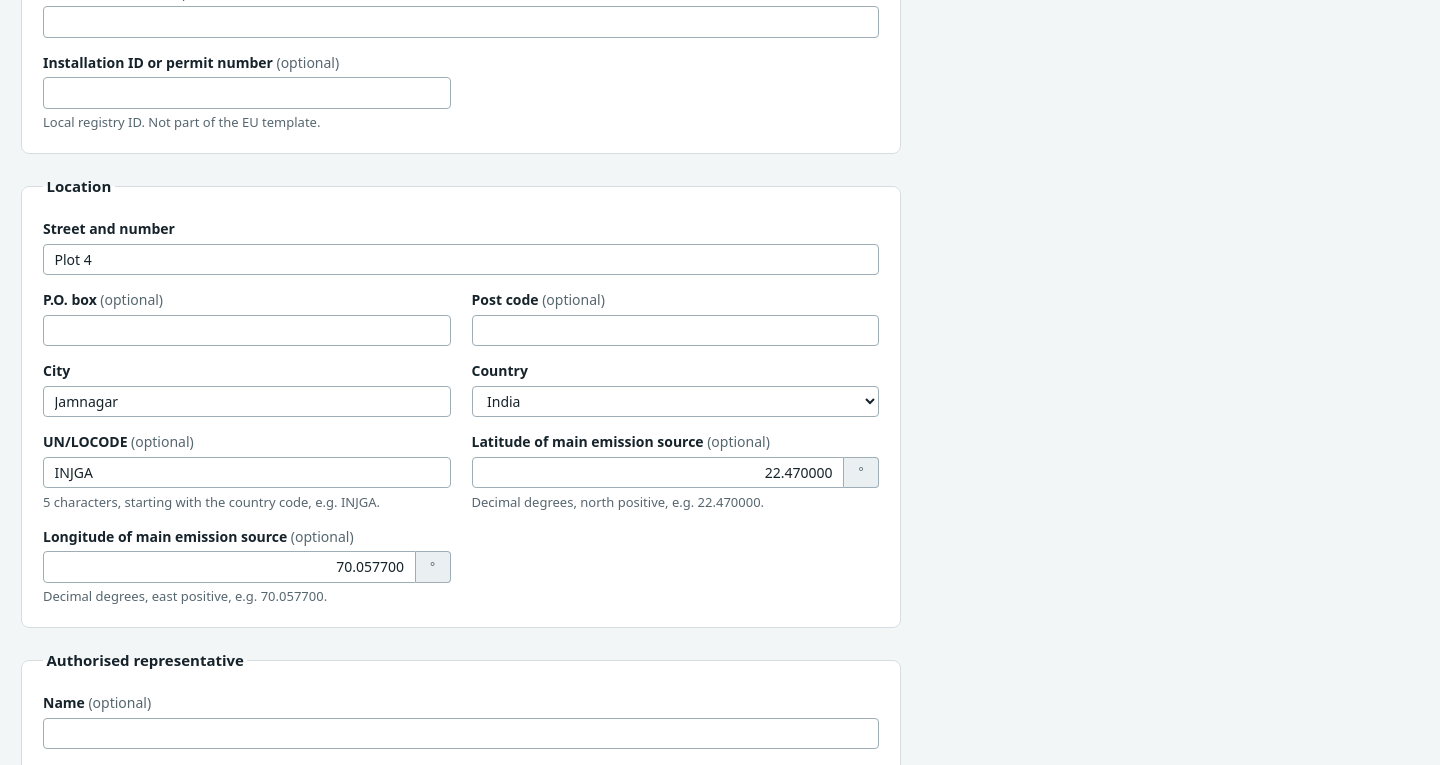
Test case: installation profile › autosaves only the field that changed, on blur
The image size is (1440, 765).
(page scrolled)
Replace the text in the field labelled "City" with "Jamnagar Rural": {"x": 247, "y": 401} [43, 386, 450, 417]
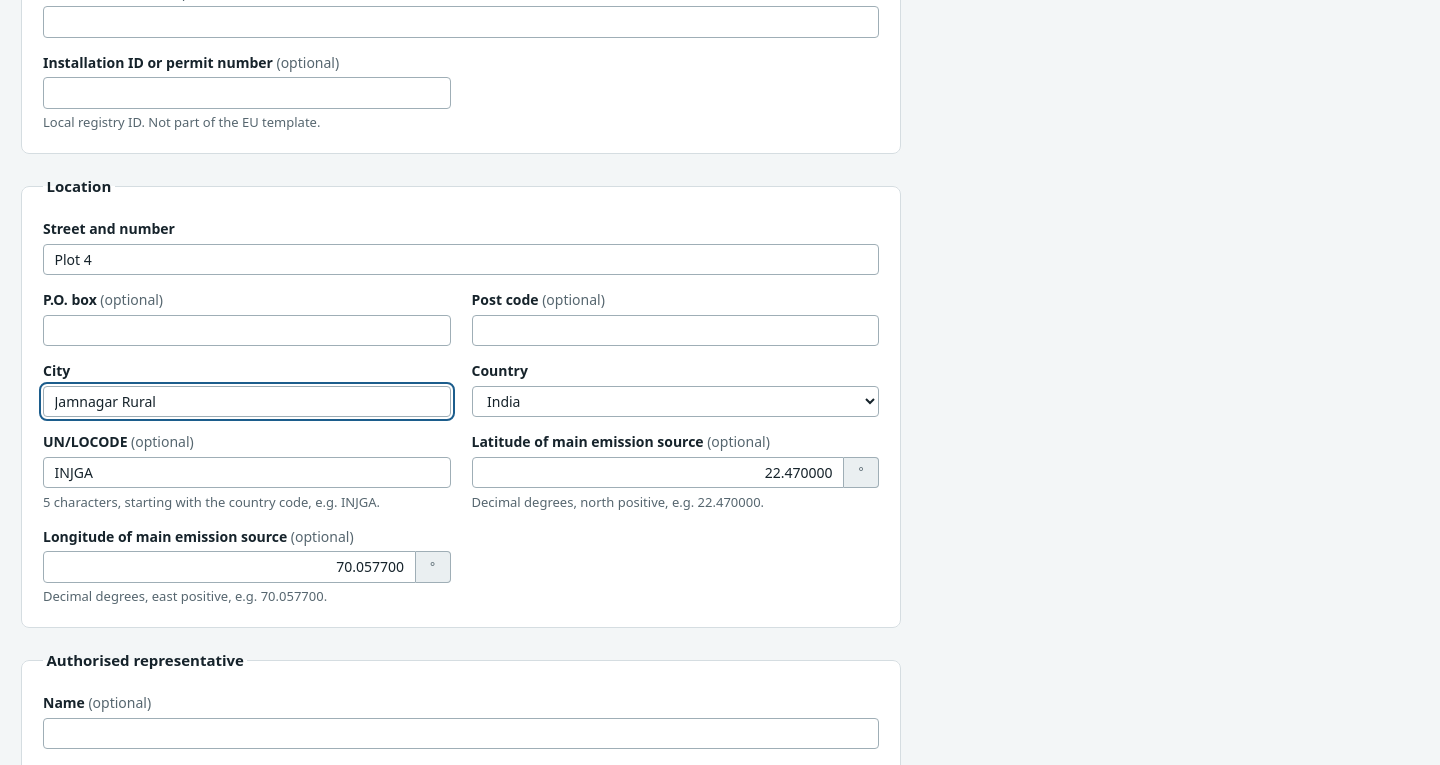
Leave the field labelled "City", box [43, 386, 450, 417]
(page scrolled)
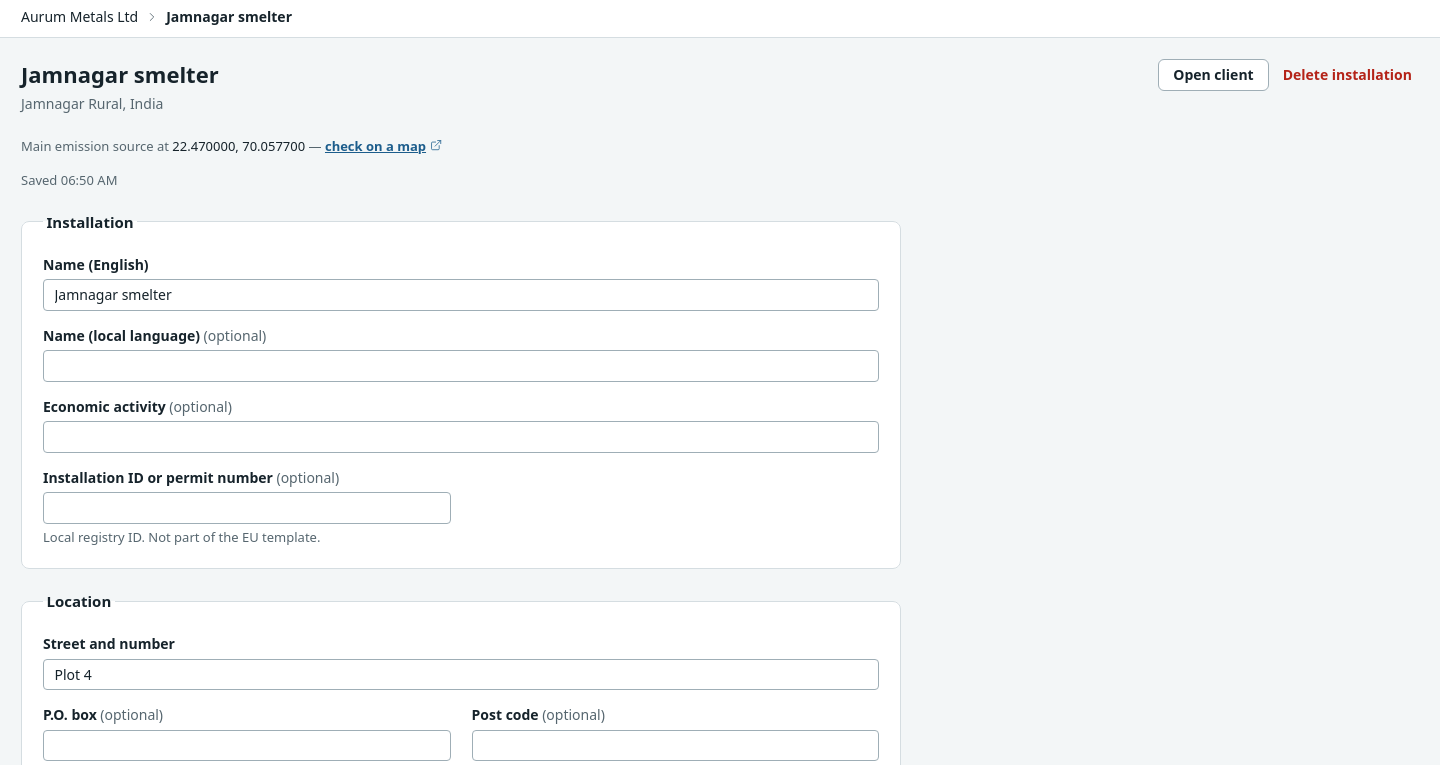
Check: the text "Saved 06:50 AM" is shown, box [21, 170, 118, 188]
